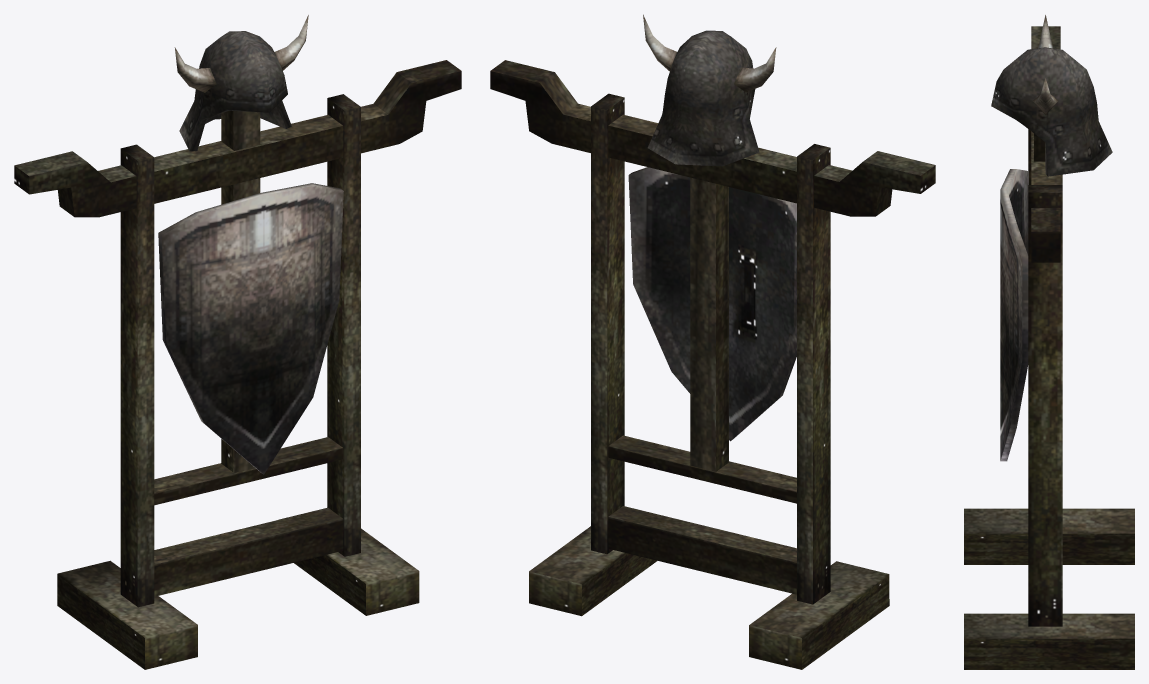
Rendered from ep_b_general_obj_30.glb.
3 renders of one model, left to right at view 1: azimuth 30°, elevation 25°; view 2: azimuth 150°, elevation 25°; view 3: azimuth 270°, elevation 25°, orthographic. The views are drawn at different scales.
Visible parts, largest first — view 1: ep_B_general_obj_30; view 2: ep_B_general_obj_30; view 3: ep_B_general_obj_30.
Boxes of the visible parts, x1,y1,x2,y2 form: ep_B_general_obj_30: (14, 15, 461, 669); ep_B_general_obj_30: (490, 14, 935, 669); ep_B_general_obj_30: (964, 15, 1134, 669).
Size of the model in its own units: 1.94 by 2.46 by 0.6819.
Materials: 1 (1 with a texture image).
